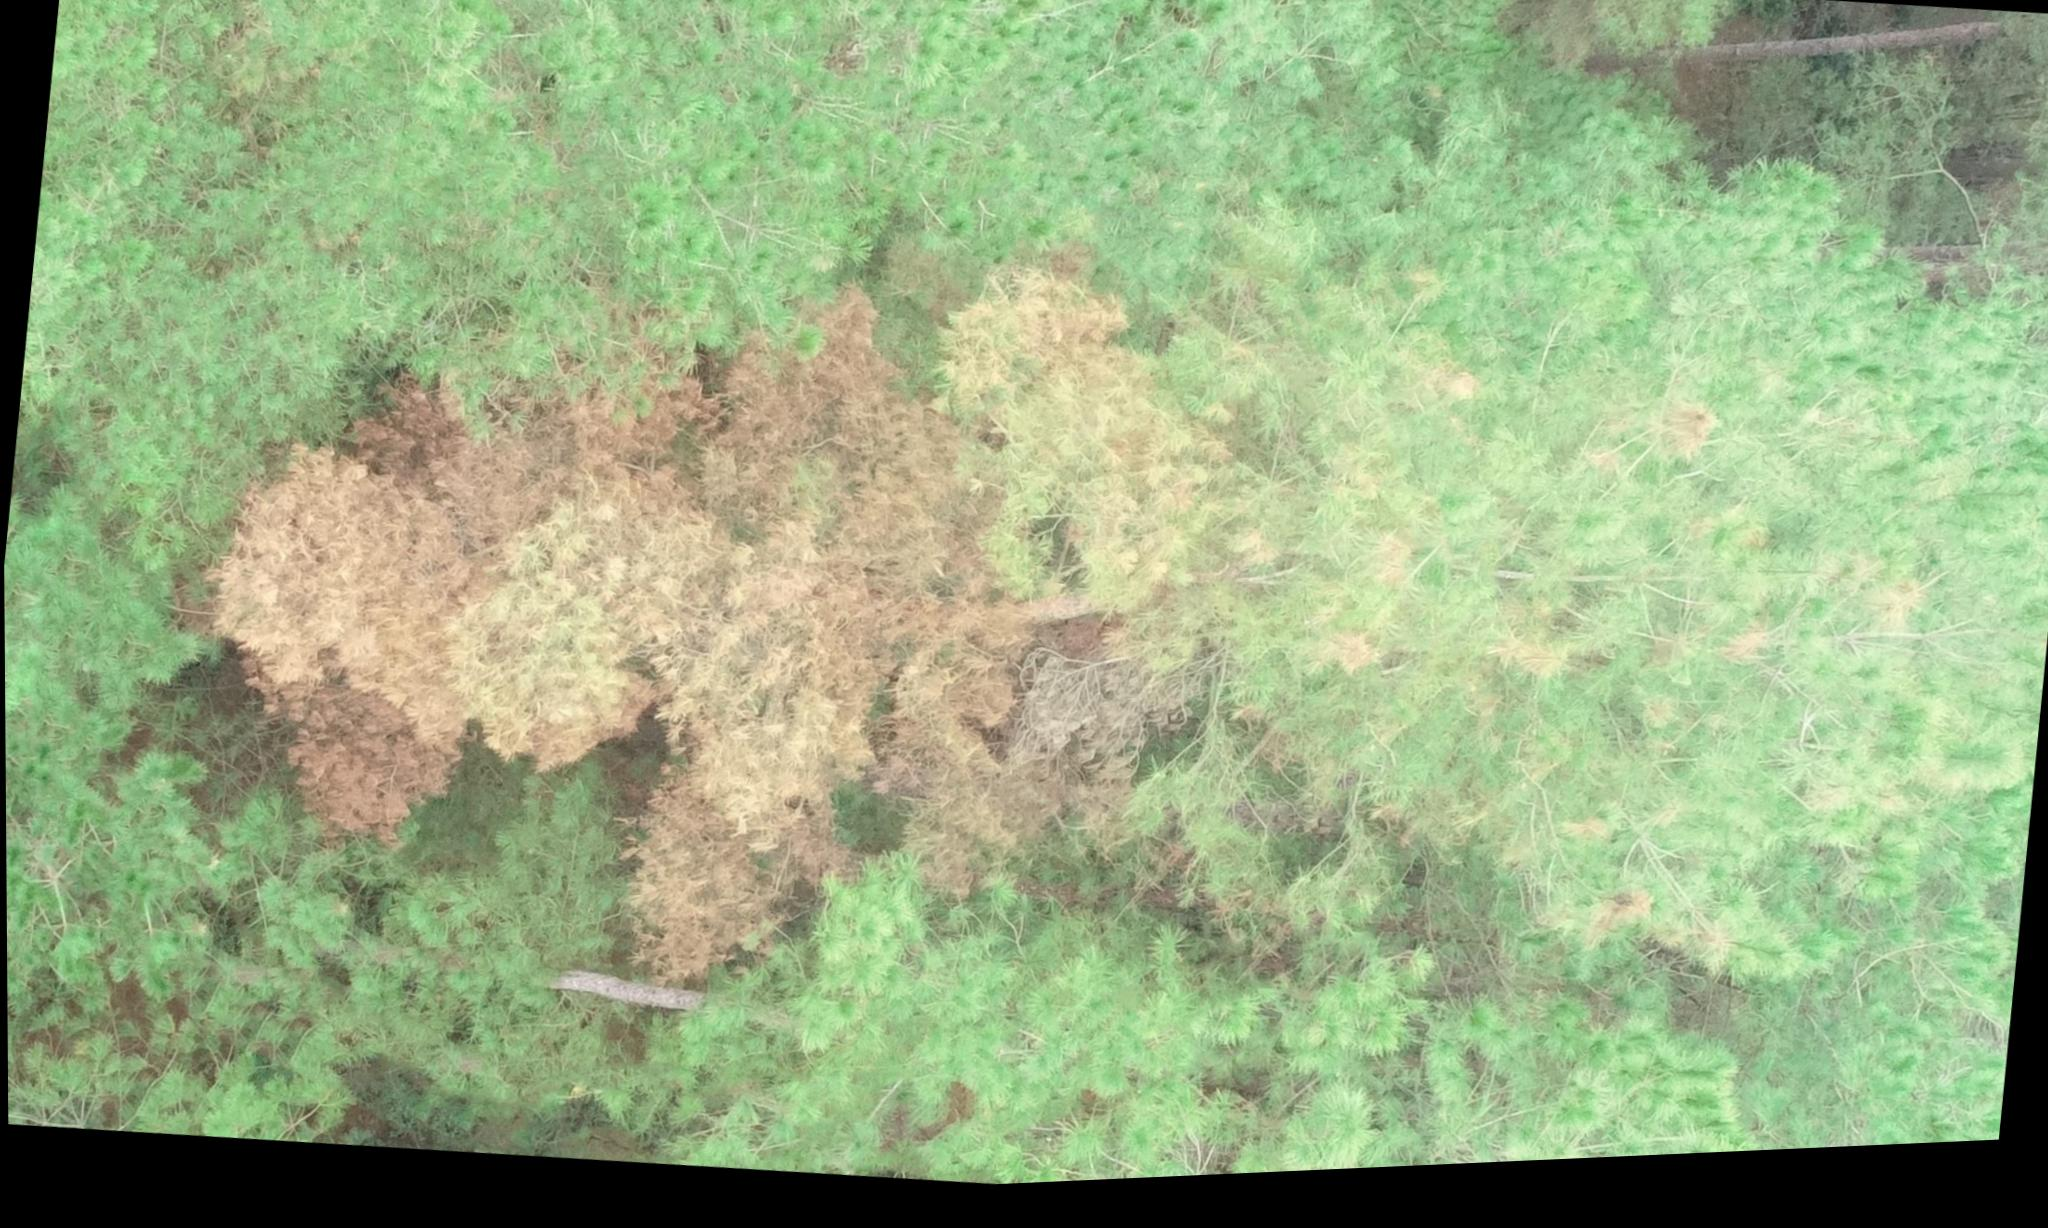heavy: (161, 224, 937, 997)
light: (917, 260, 1302, 636)
